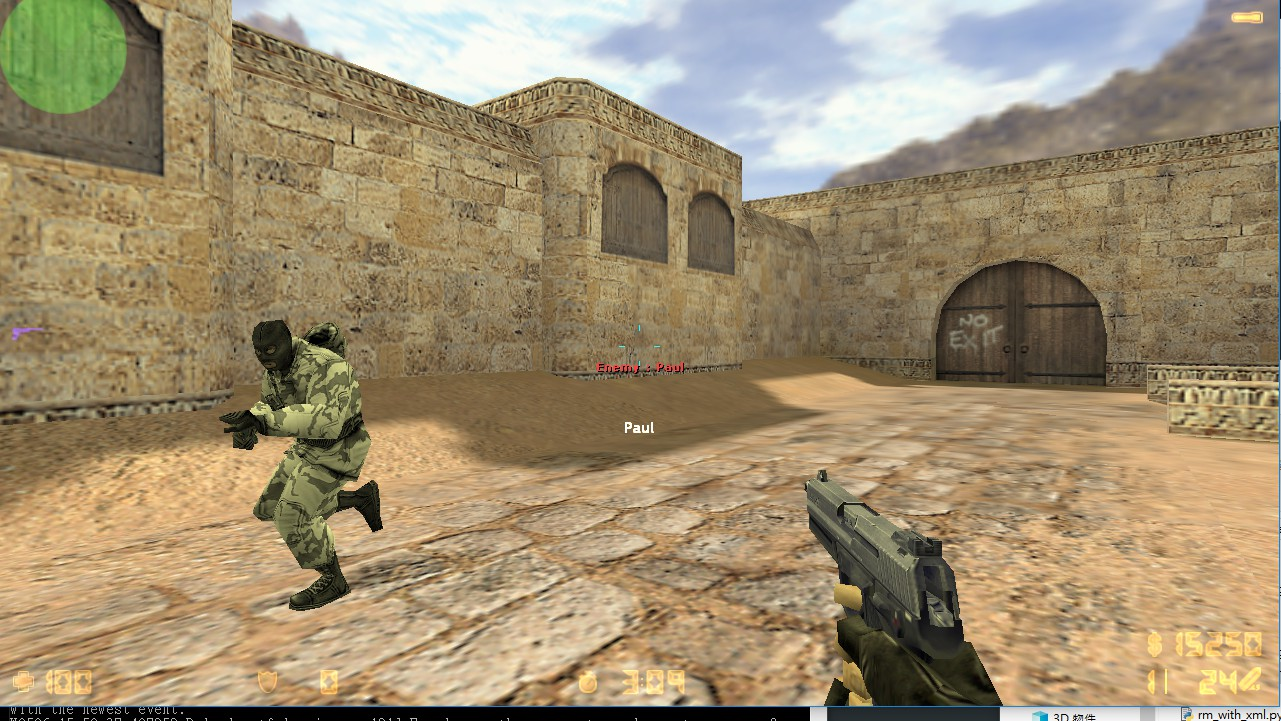person: (229, 309, 401, 613)
